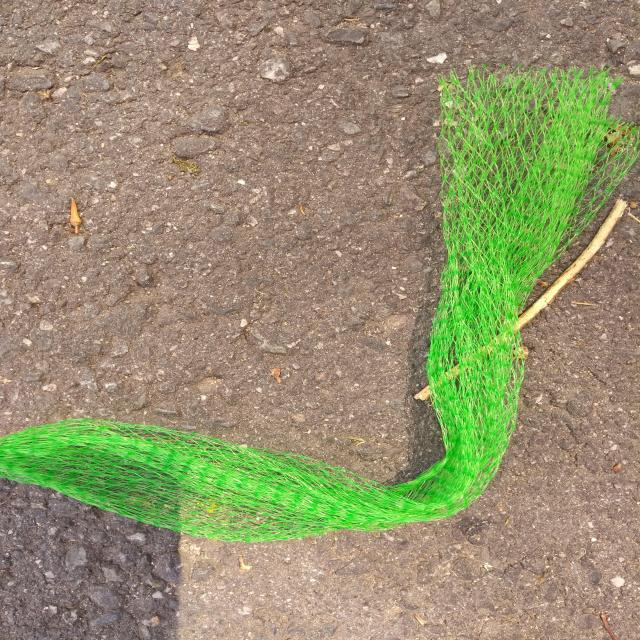litter: (5, 66, 619, 544)
